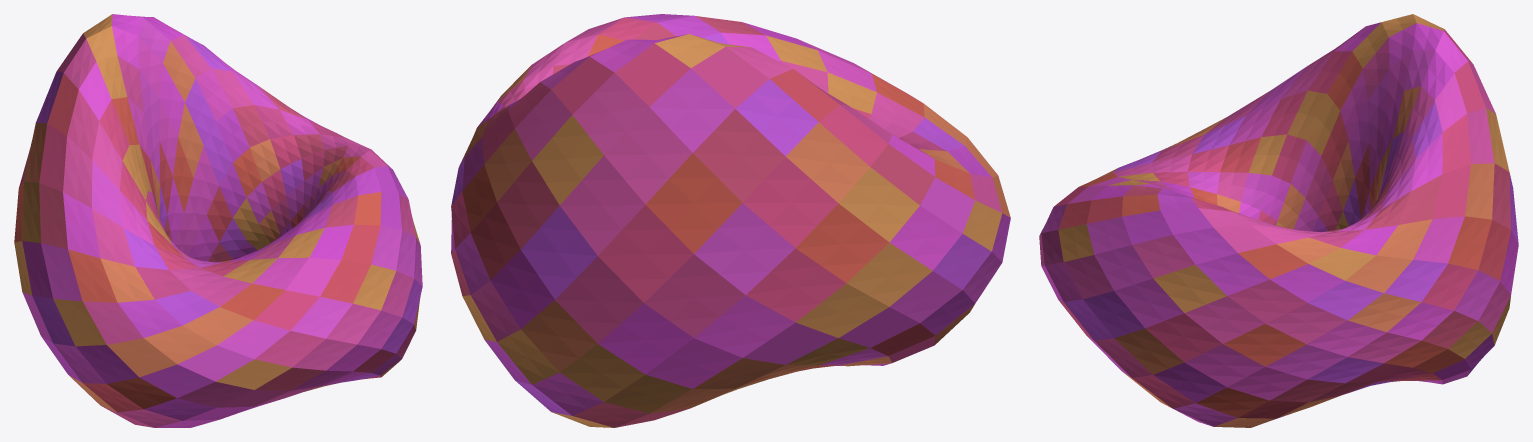
Rendered from mirarBlob.glb.
3 views of the same model, side by side, from view 1: azimuth 30°, elevation 25°; view 2: azimuth 150°, elevation 25°; view 3: azimuth 270°, elevation 25° (orthographic). The views are drawn at different scales.
Parts seen in each view (by area): view 1: mesh_12, mesh_8, mesh_4, mesh_0, mesh_6, mesh_10, mesh_3, mesh_7, mesh_11, mesh_13, mesh_14, mesh_1 (+3 smaller); view 2: mesh_8, mesh_11, mesh_12, mesh_0, mesh_4, mesh_9, mesh_13, mesh_5, mesh_3, mesh_7, mesh_2, mesh_1 (+3 smaller); view 3: mesh_11, mesh_6, mesh_12, mesh_0, mesh_4, mesh_8, mesh_7, mesh_13, mesh_10, mesh_3, mesh_1, mesh_9 (+3 smaller).
Boxes of the visible parts, x1,y1,x2,y2 form: mesh_12: [22, 17, 422, 383]; mesh_8: [14, 14, 420, 389]; mesh_4: [23, 41, 420, 411]; mesh_0: [92, 35, 413, 407]; mesh_6: [120, 30, 401, 390]; mesh_10: [41, 108, 408, 420]; mesh_3: [22, 15, 380, 427]; mesh_7: [32, 35, 422, 382]; mesh_11: [19, 99, 395, 380]; mesh_13: [14, 97, 381, 409]; mesh_14: [63, 39, 415, 427]; mesh_1: [47, 73, 380, 412]; mesh_8: [462, 34, 1002, 427]; mesh_11: [451, 17, 918, 322]; mesh_12: [455, 68, 1002, 415]; mesh_0: [471, 17, 924, 366]; mesh_4: [459, 65, 1010, 413]; mesh_9: [451, 16, 935, 427]; mesh_13: [462, 34, 975, 374]; mesh_5: [497, 47, 946, 362]; mesh_3: [451, 32, 962, 388]; mesh_7: [451, 32, 991, 415]; mesh_2: [477, 22, 816, 374]; mesh_1: [471, 69, 934, 355]; mesh_11: [1054, 29, 1485, 408]; mesh_6: [1045, 50, 1466, 400]; mesh_12: [1041, 50, 1499, 426]; mesh_0: [1039, 51, 1510, 363]; mesh_4: [1081, 86, 1494, 427]; mesh_8: [1058, 14, 1510, 358]; mesh_7: [1064, 101, 1518, 420]; mesh_13: [1079, 52, 1491, 417]; mesh_10: [1122, 146, 1494, 402]; mesh_3: [1041, 22, 1467, 384]; mesh_1: [1058, 111, 1510, 418]; mesh_9: [1123, 163, 1510, 402].
Bounding box in the file's own units: 71.25 × 59.88 × 80.91.
